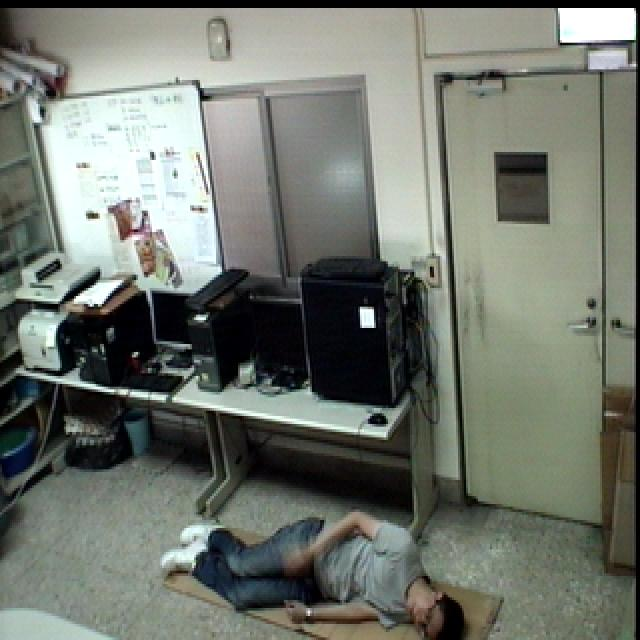lie: (161, 498, 468, 640)
